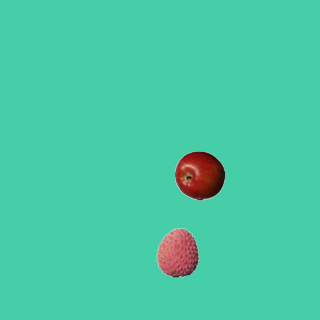Apple Braeburn: (174, 150, 224, 200)
Lychee: (152, 227, 202, 277)
